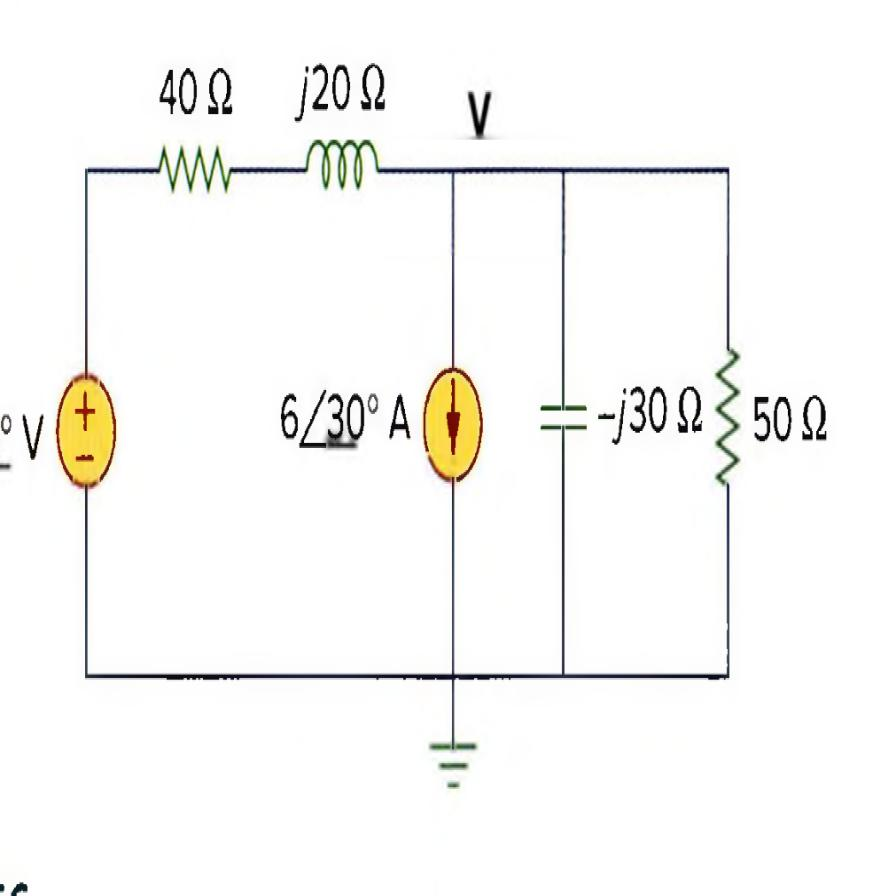C2: (530, 367, 596, 466)
I3: (410, 341, 491, 492)
L1: (289, 128, 387, 207)
R1: (144, 128, 239, 237)
R2: (704, 332, 750, 509)
V1: (44, 357, 123, 511)
